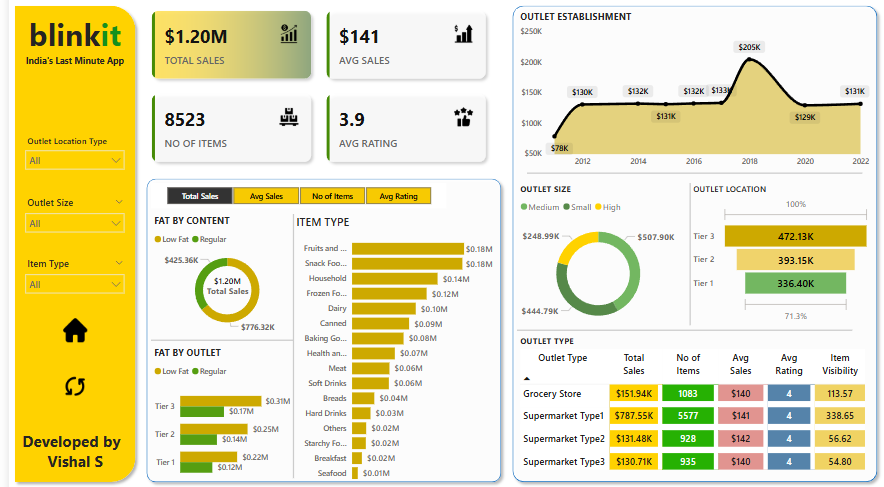

What the dashboard file says about the page in this screenshot:
{"tool":"powerbi","page":{"name":"Page 1","canvas":[1400,800],"ordinal":0},"visuals":[{"type":"shape","box":[0,16,208,768],"z":0},{"type":"textbox","box":[16,32,176,80],"z":1000},{"type":"textbox","box":[16,96,176,32],"z":2000},{"type":"cardVisual","fields":{"Data":["BlinkIT Grocery Data.Total Sales","BlinkIT Grocery Data.Avg Sales","BlinkIT Grocery Data.No of Items","BlinkIT Grocery Data.Avg Rating"]},"box":[208,16,560,272],"z":3000},{"type":"shape","box":[208,288,576,496],"z":4000},{"type":"slicer","fields":{"Values":["Metrics.Metrics"]},"box":[224,304,465,40],"z":5000},{"type":"cardVisual","fields":{"Data":["BlinkIT Grocery Data.Total Sales"]},"box":[272,432,144,64],"z":6000},{"type":"clusteredBarChart","title":"FAT BY OUTLET","fields":{"Y":["BlinkIT Grocery Data.Total Sales"],"Category":["BlinkIT Grocery Data.Outlet Location Type"],"Series":["BlinkIT Grocery Data.Item Fat Content"]},"box":[224,560,224,224],"z":7000},{"type":"shape","box":[224,528,224,48],"z":8000},{"type":"shape","box":[400,352,96,416],"z":9000},{"type":"barChart","title":"ITEM TYPE","fields":{"Y":["BlinkIT Grocery Data.Total Sales"],"Category":["BlinkIT Grocery Data.Item Type"]},"box":[448,352,320,432],"z":10000},{"type":"donutChart","title":"FAT BY CONTENT","fields":{"Y":["BlinkIT Grocery Data.Total Sales"],"Category":["BlinkIT Grocery Data.Item Fat Content"]},"box":[224,352,240,192],"z":11000},{"type":"shape","box":[784,16,592,768],"z":12000},{"type":"lineChart","title":"OUTLET ESTABLISHMENT","fields":{"Category":["BlinkIT Grocery Data.Outlet Establishment Year"],"Y":["BlinkIT Grocery Data.Total Sales"]},"box":[800,32,560,256],"z":13000},{"type":"shape","box":[816,272,528,32],"z":14000},{"type":"donutChart","title":"OUTLET SIZE","fields":{"Y":["BlinkIT Grocery Data.Total Sales"],"Category":["BlinkIT Grocery Data.Outlet Size"]},"box":[800,304,256,240],"z":15000},{"type":"shape","box":[800,512,528,48],"z":16000},{"type":"shape","box":[1056,304,32,224],"z":17000},{"type":"funnel","title":"OUTLET LOCATION","fields":{"Y":["Sum(BlinkIT Grocery Data.Sales)"],"Category":["BlinkIT Grocery Data.Outlet Location Type"]},"box":[1072,304,288,224],"z":18000},{"type":"pivotTable","title":"OUTLET TYPE","fields":{"Values":["BlinkIT Grocery Data.Total Sales","BlinkIT Grocery Data.No of Items","BlinkIT Grocery Data.Avg Sales","BlinkIT Grocery Data.Avg Rating","Sum(BlinkIT Grocery Data.Item Visibility)"],"Rows":["BlinkIT Grocery Data.Outlet Type"]},"box":[800,544,560,224],"z":19000},{"type":"slicer","fields":{"Values":["BlinkIT Grocery Data.Outlet Location Type"]},"box":[16,224,176,64],"z":19001},{"type":"slicer","fields":{"Values":["BlinkIT Grocery Data.Outlet Size"]},"box":[16,320,176,64],"z":19002},{"type":"slicer","fields":{"Values":["BlinkIT Grocery Data.Item Type"]},"box":[16,416,176,64],"z":19003},{"type":"textbox","box":[16,688,176,80],"z":19004}]}

Visuals, with their boxes on the page's 1400x800 design canvas (x1, y1, x2, y2). These are canvas units, not pixel positions in the 884x487 screenshot, which may show the page scaled, cropped or inside an application window:
shape: crop(0, 16, 208, 784)
textbox: crop(16, 32, 192, 112)
textbox: crop(16, 96, 192, 128)
cardVisual - BlinkIT Grocery Data.Total Sales x BlinkIT Grocery Data.Avg Sales: crop(208, 16, 768, 288)
shape: crop(208, 288, 784, 784)
slicer - Metrics.Metrics: crop(224, 304, 689, 344)
cardVisual - BlinkIT Grocery Data.Total Sales: crop(272, 432, 416, 496)
"FAT BY OUTLET" clusteredBarChart: crop(224, 560, 448, 784)
shape: crop(224, 528, 448, 576)
shape: crop(400, 352, 496, 768)
"ITEM TYPE" barChart: crop(448, 352, 768, 784)
"FAT BY CONTENT" donutChart: crop(224, 352, 464, 544)
shape: crop(784, 16, 1376, 784)
"OUTLET ESTABLISHMENT" lineChart: crop(800, 32, 1360, 288)
shape: crop(816, 272, 1344, 304)
"OUTLET SIZE" donutChart: crop(800, 304, 1056, 544)
shape: crop(800, 512, 1328, 560)
shape: crop(1056, 304, 1088, 528)
"OUTLET LOCATION" funnel: crop(1072, 304, 1360, 528)
"OUTLET TYPE" pivotTable: crop(800, 544, 1360, 768)
slicer - BlinkIT Grocery Data.Outlet Location Type: crop(16, 224, 192, 288)
slicer - BlinkIT Grocery Data.Outlet Size: crop(16, 320, 192, 384)
slicer - BlinkIT Grocery Data.Item Type: crop(16, 416, 192, 480)
textbox: crop(16, 688, 192, 768)
